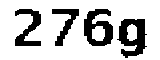2: (9, 5, 46, 52)
6: (84, 7, 117, 53)
7: (50, 5, 81, 48)
g: (118, 17, 149, 60)
